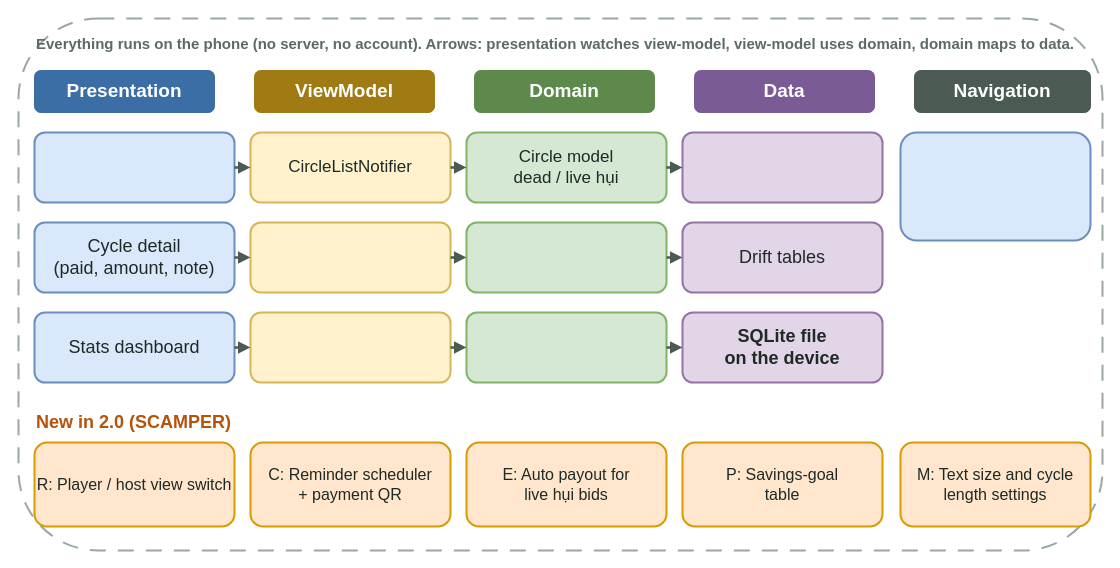
The diagram is 1120 pixels wide and 568 high, and some of its shapes have lost their labels. Here are the shapes that lost their labels. From the top down, the centre of each, then its label:
the point at 134,167: Circle list
the point at 782,167: Drift DAOs
the point at 995,186: GoRouter /circles /circles/:id /stats
the point at 350,257: CycleNotifier
the point at 566,257: Payment model
the point at 350,347: StatsProvider
the point at 566,347: Progress rules paid, remaining, %
